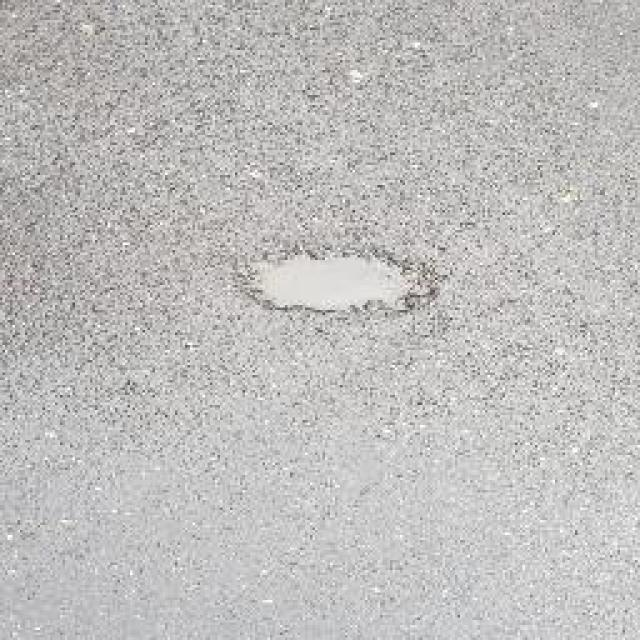waterlogging: (230, 230, 444, 320)
